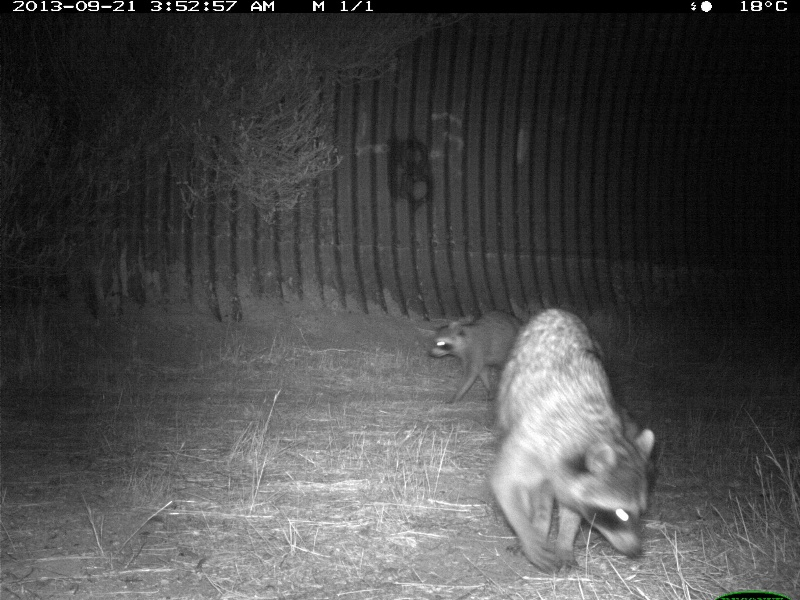raccoon: (489, 306, 663, 575), (428, 306, 524, 404)
